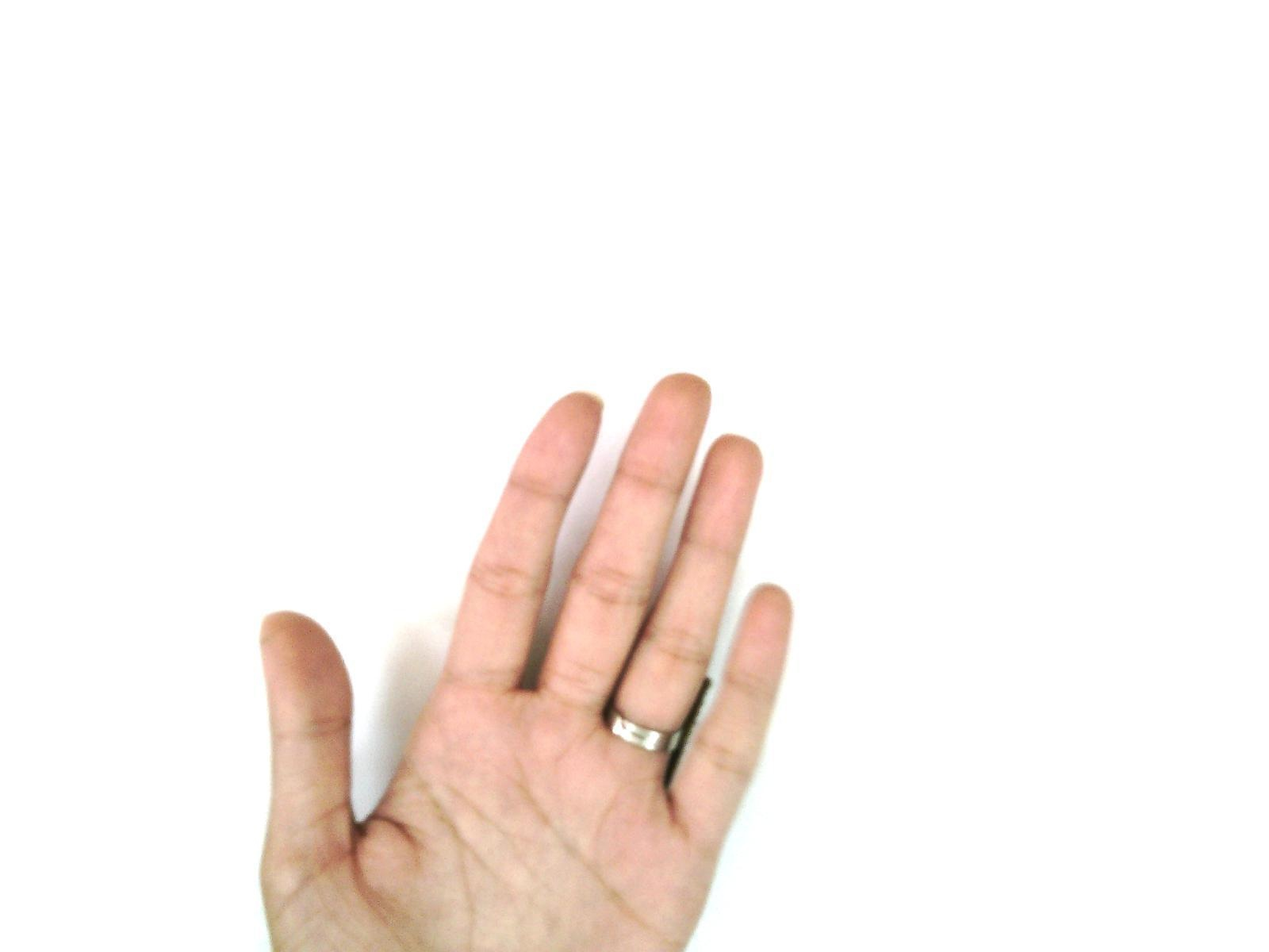open_palm: (255, 371, 796, 951)
